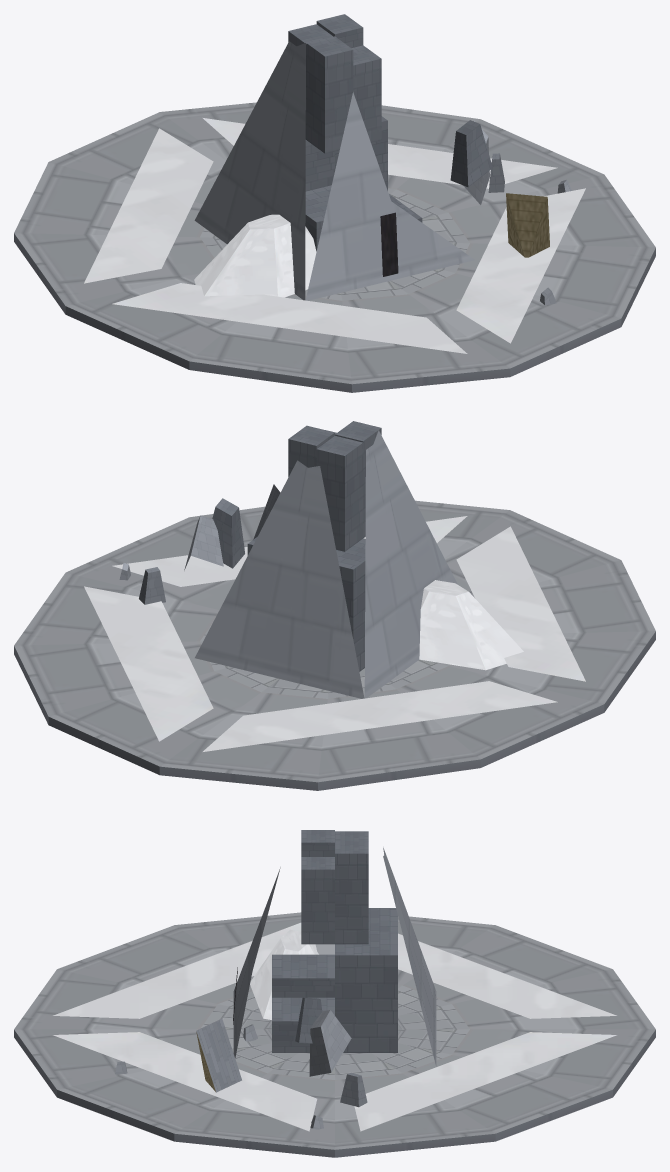
The model's file is pyramid_small_destroyed_lod2.glb.
3 views of the same model, one above another, from view 1: azimuth 30°, elevation 25°; view 2: azimuth 150°, elevation 25°; view 3: azimuth 270°, elevation 25° (orthographic). The views are drawn at different scales.
Visible parts, largest first — view 1: pyramid_small_destroyed_lod2; view 2: pyramid_small_destroyed_lod2; view 3: pyramid_small_destroyed_lod2.
Part boxes in pixels (box(x1,y1,x2,y2)): pyramid_small_destroyed_lod2: box(14, 14, 655, 392); pyramid_small_destroyed_lod2: box(14, 421, 655, 790); pyramid_small_destroyed_lod2: box(14, 830, 655, 1157).
Bounding box in the file's own units: 1.7 × 0.664 × 1.91.
1 material, 1 textured.
